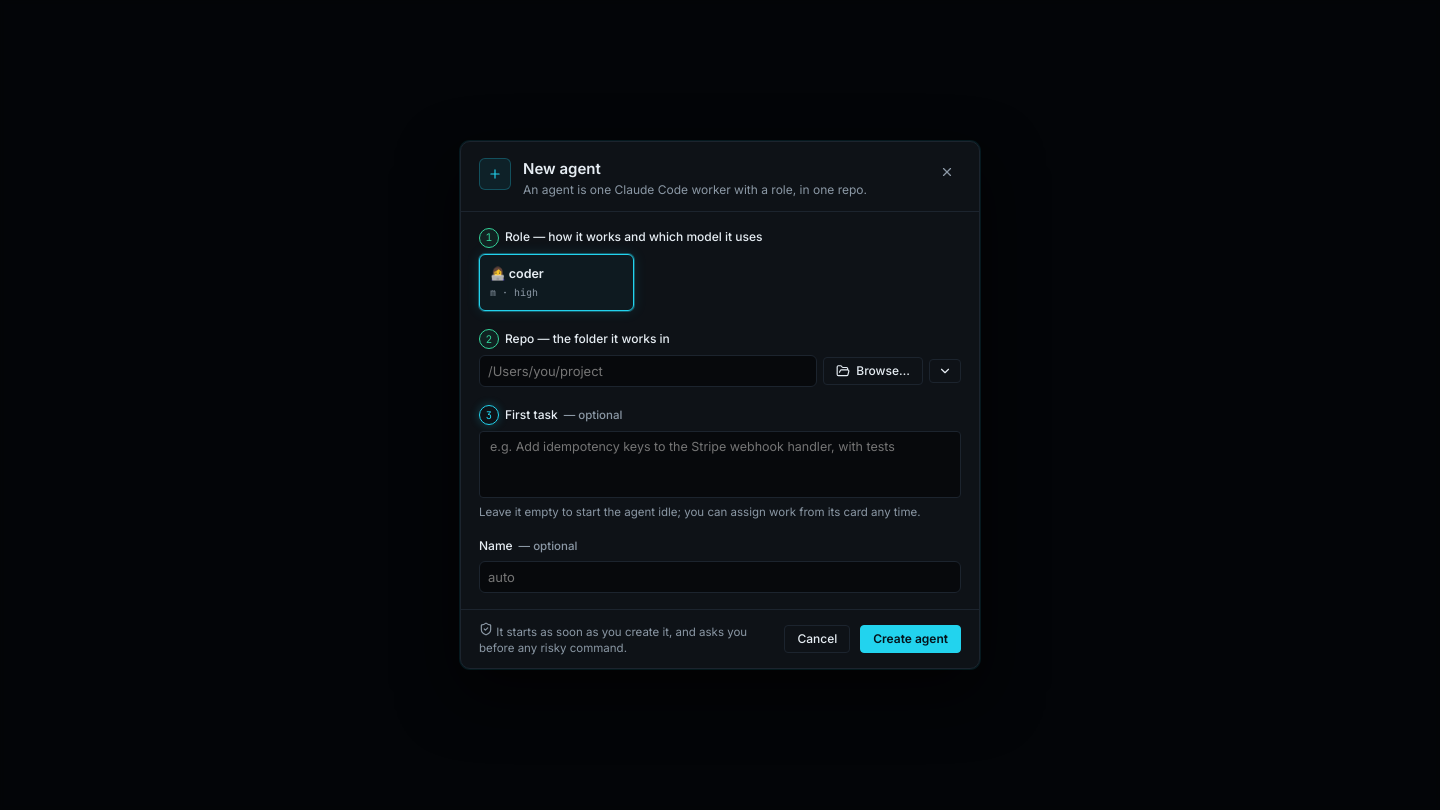
SpawnDialog repo browser › lists the root on open with repos badged
Click the button named "show folder list" at (945, 371), box [929, 359, 961, 383]
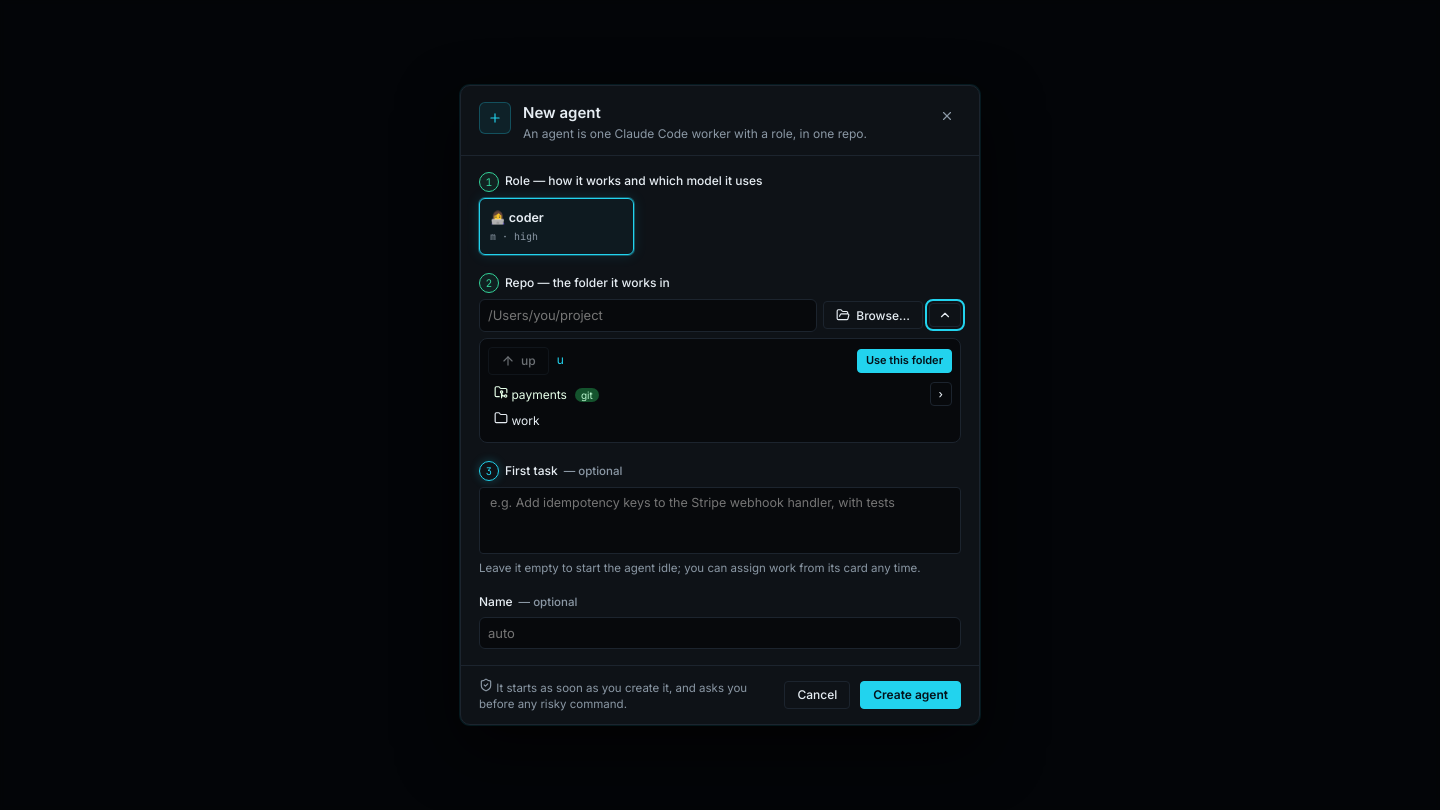
Expected: the button "work" does not show "git", [488, 407, 952, 434]
Now the button "payments" shows "git", box [488, 381, 926, 407]
